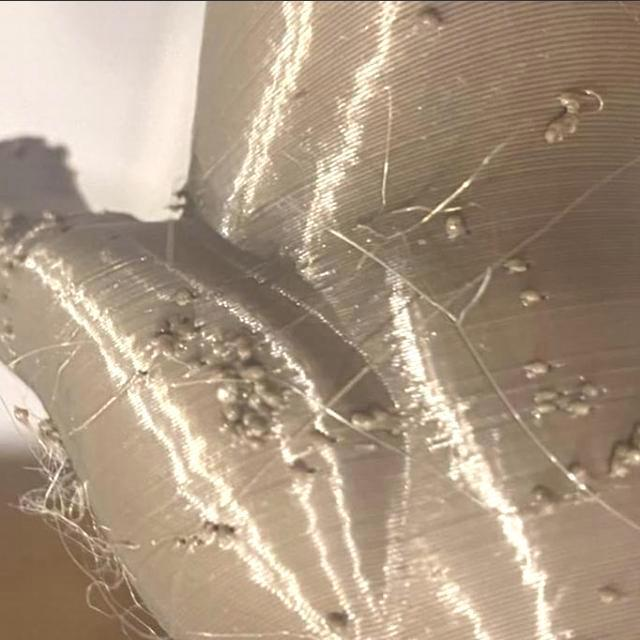zits: (530, 478, 563, 520), (544, 116, 582, 148), (442, 204, 467, 244), (609, 446, 640, 478), (146, 329, 176, 362), (413, 4, 445, 34), (565, 458, 595, 490), (372, 396, 398, 432), (306, 420, 336, 451), (287, 458, 317, 488), (348, 404, 377, 435), (255, 384, 284, 414), (592, 586, 624, 611), (194, 520, 222, 548), (242, 362, 270, 390), (244, 417, 276, 441), (209, 335, 235, 363), (326, 608, 352, 636), (174, 284, 198, 314), (212, 384, 237, 412), (504, 250, 530, 276), (566, 394, 593, 419), (218, 526, 242, 554), (534, 384, 562, 407), (523, 356, 549, 380), (238, 337, 260, 363), (578, 377, 598, 397), (522, 292, 544, 310)
